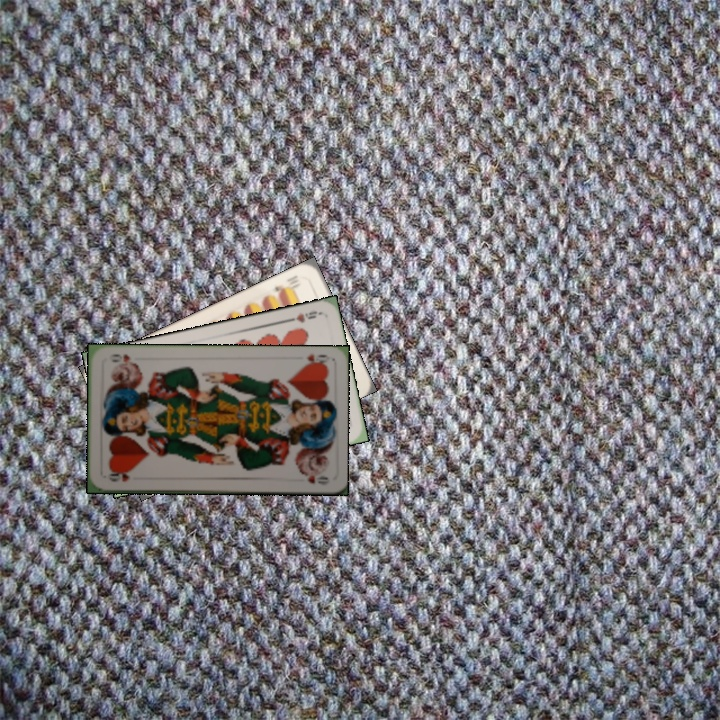E10: (271, 271, 300, 298)
H9: (283, 307, 323, 326)
HO: (298, 350, 331, 369), (103, 468, 132, 484)
